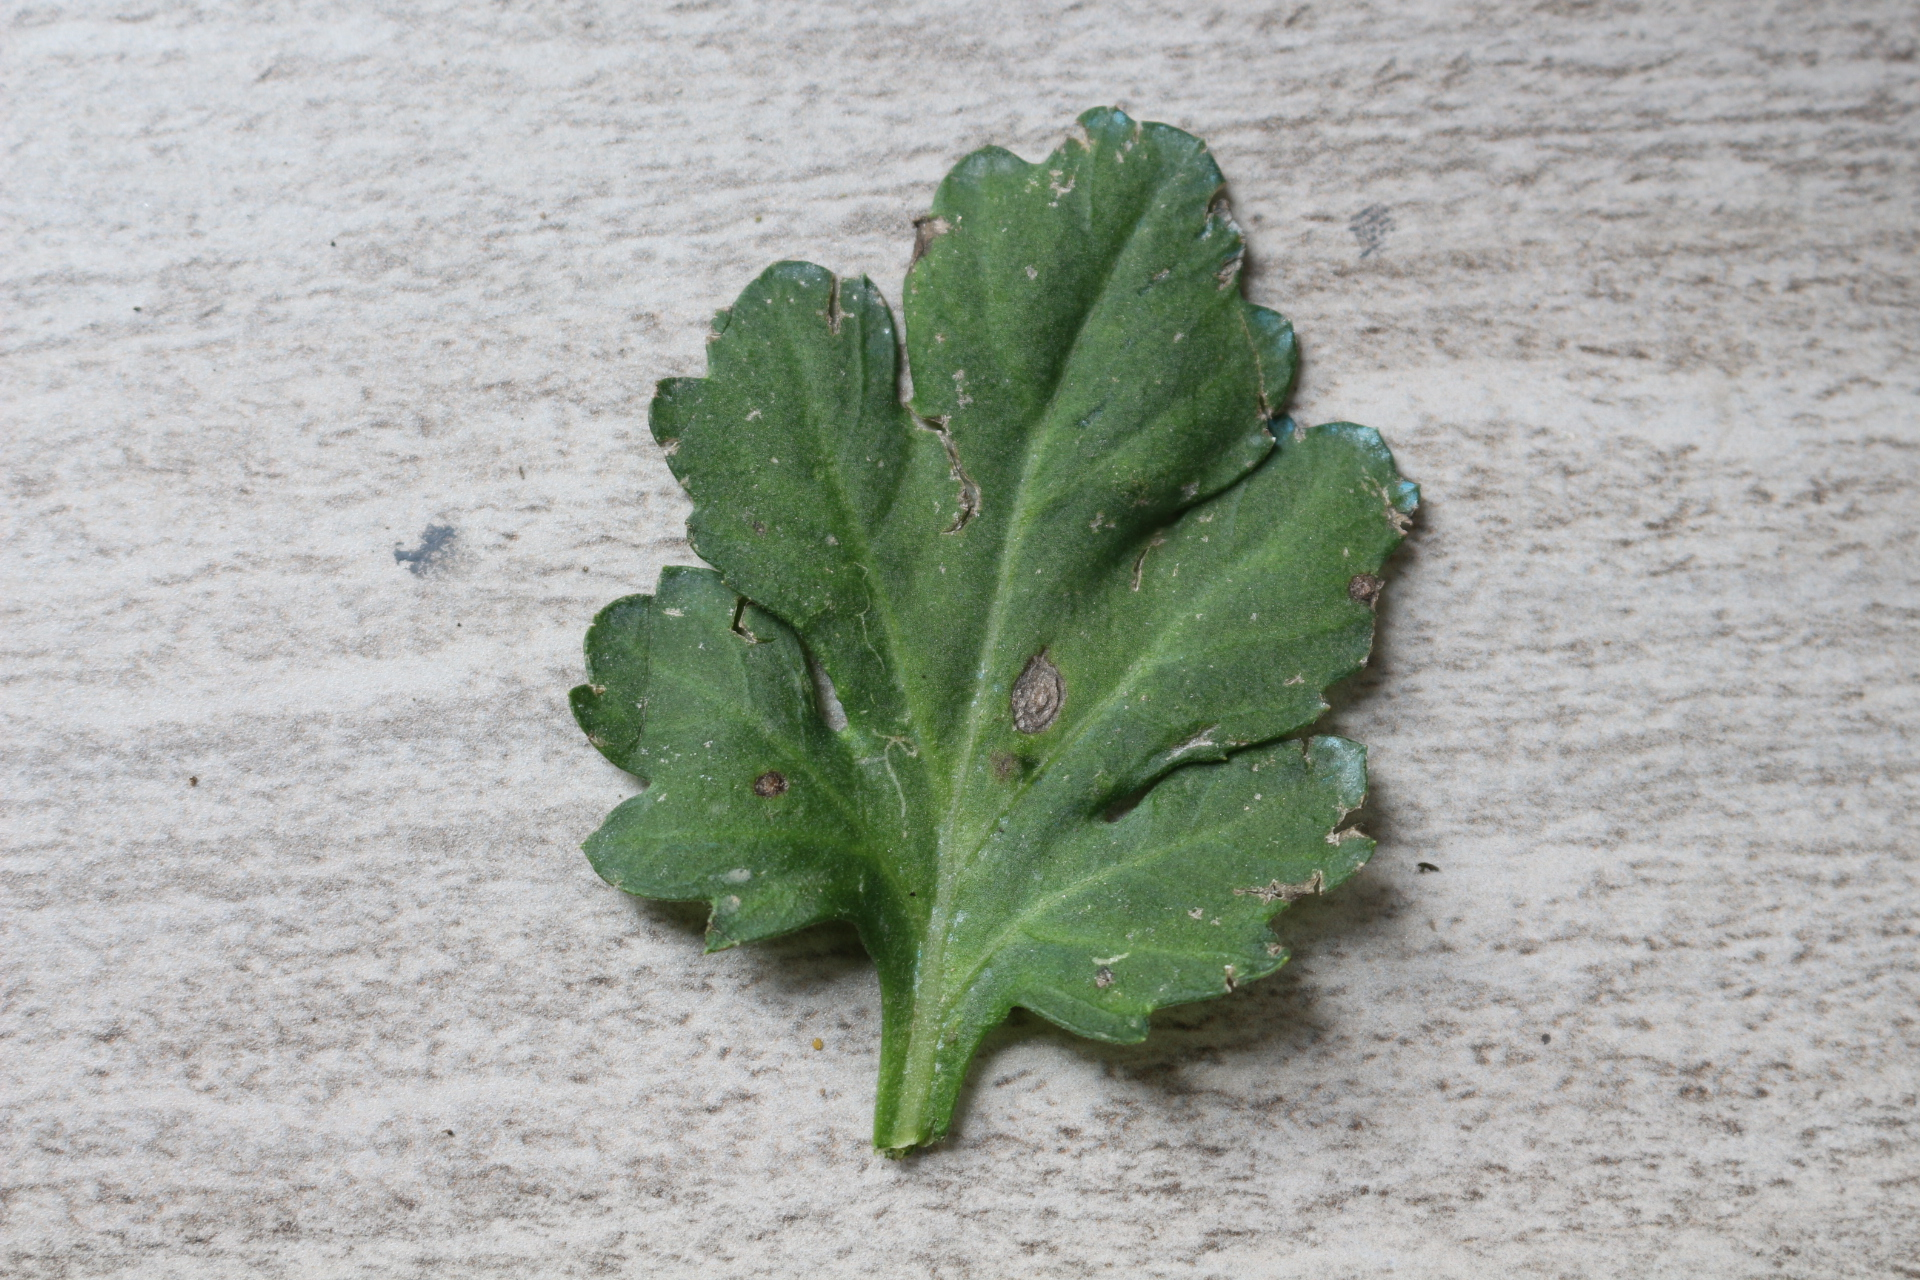namden: (1001, 646, 1076, 737), (750, 771, 794, 801)
